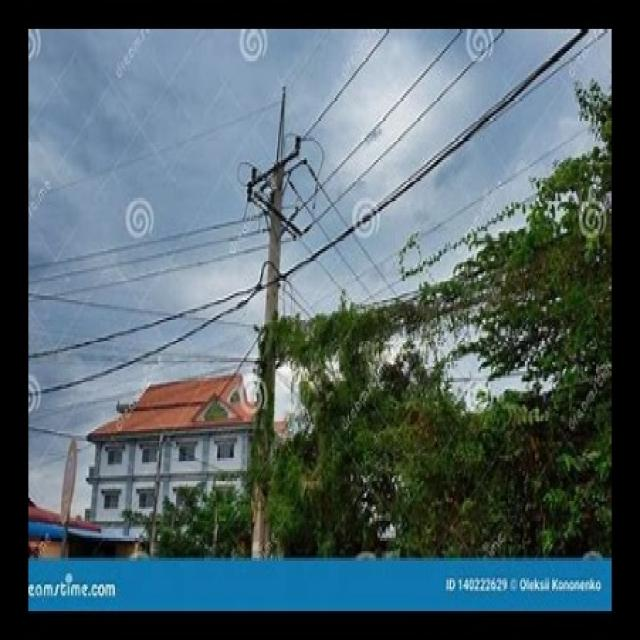critical vegetation: (263, 282, 613, 426)
